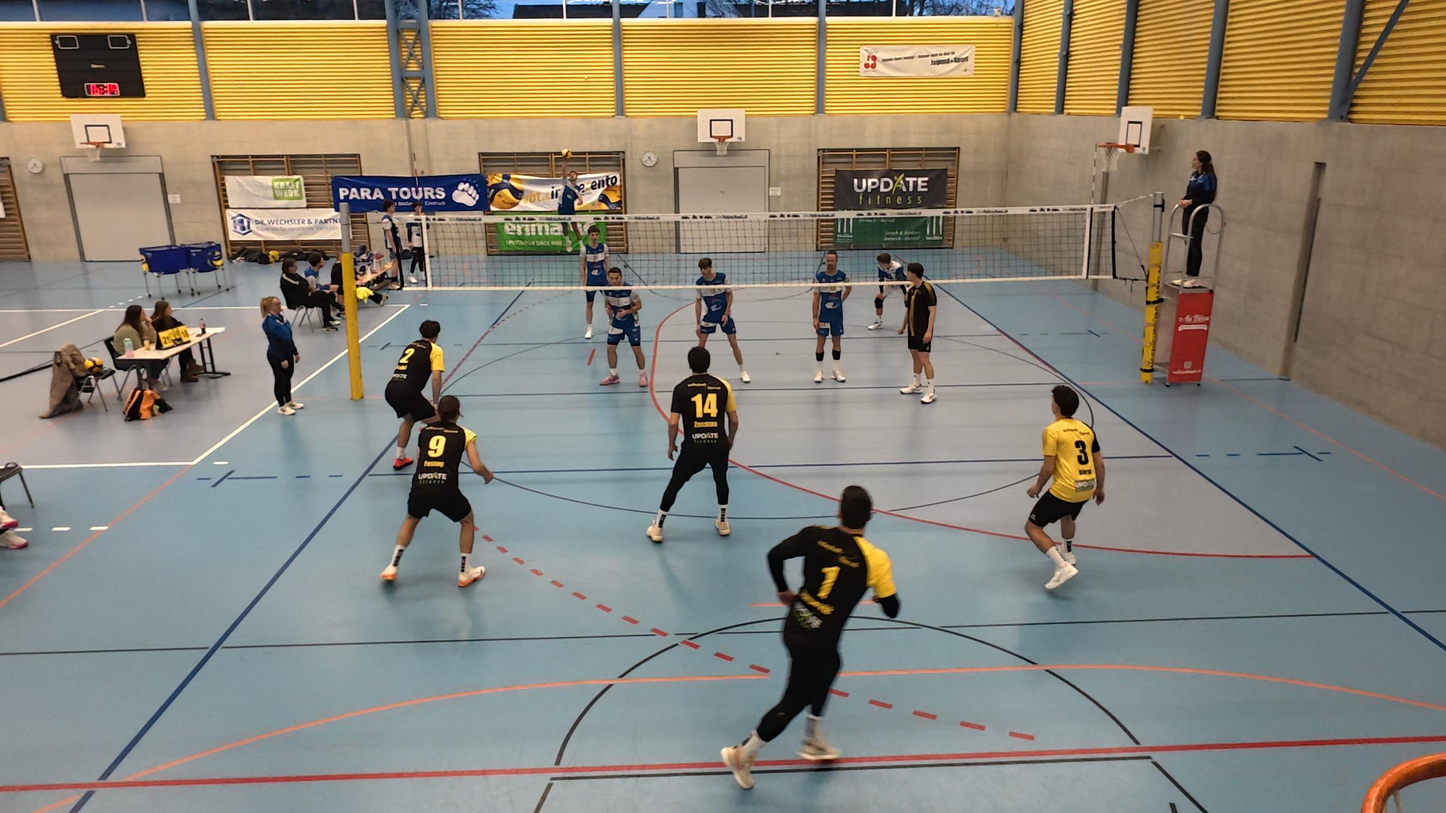battuta: (557, 147, 587, 257)
